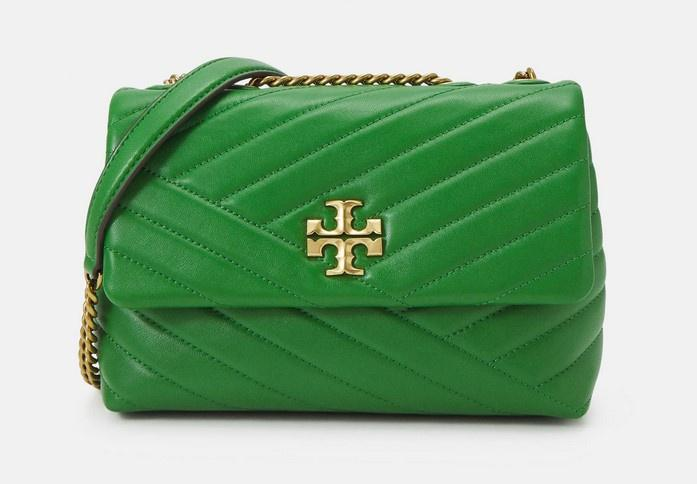TORY-BURCH: (307, 200, 383, 275)
